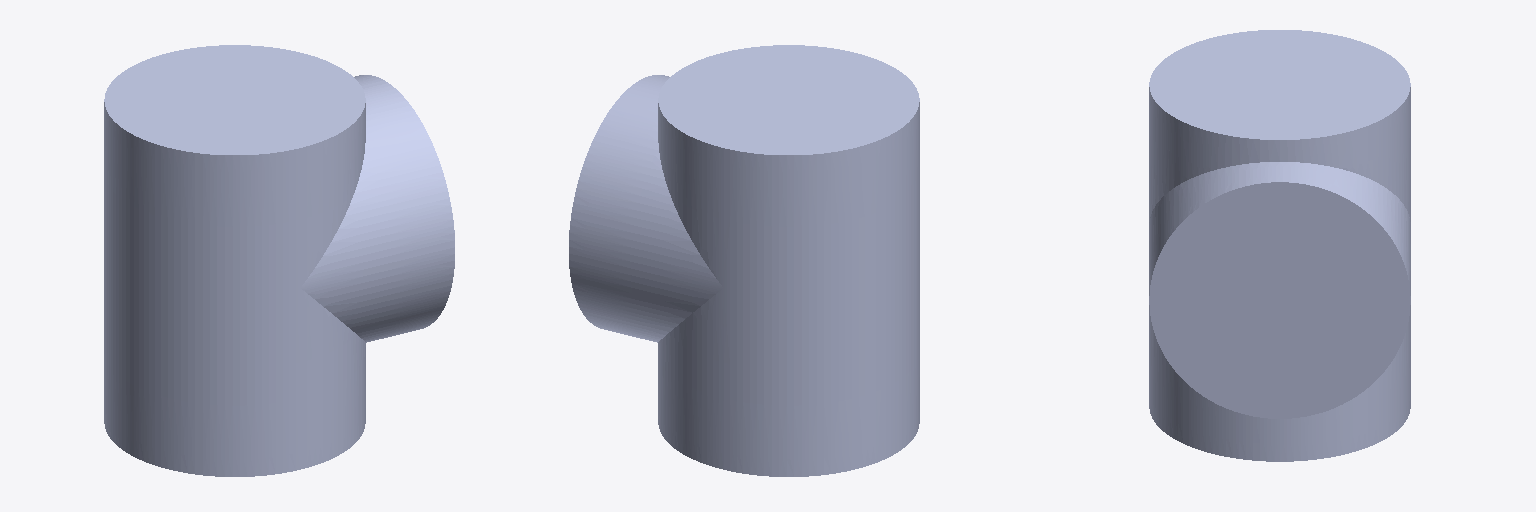
The picture shows the model from 3 angles: view 1: azimuth 30°, elevation 25°; view 2: azimuth 150°, elevation 25°; view 3: azimuth 270°, elevation 25°; orthographic projection.
Visible parts, largest first — view 1: [number redacted]; view 2: [number redacted]; view 3: [number redacted].
Boxes of the visible parts, <box> form: [number redacted]: <box>104,45,454,476</box>; [number redacted]: <box>569,45,919,476</box>; [number redacted]: <box>1149,30,1410,461</box>.
Size of the model in its own units: 0.6249 by 0.7162 by 0.5272.